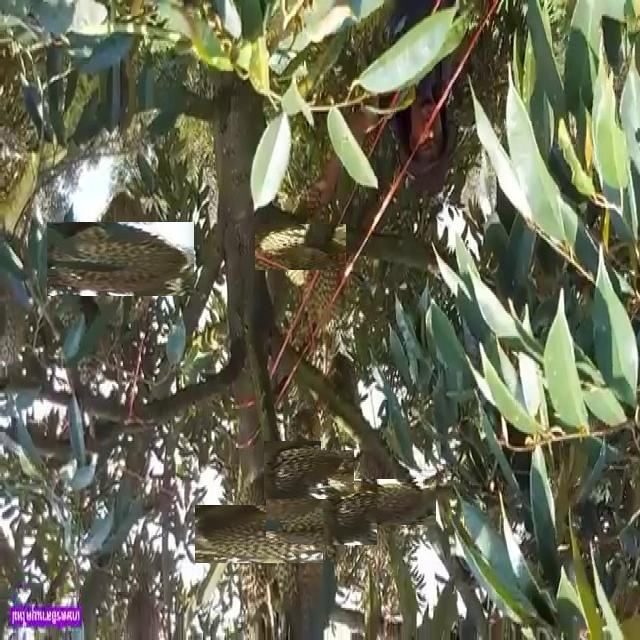durian: (65, 204, 177, 314), (212, 487, 305, 581), (272, 513, 336, 638), (329, 458, 416, 545), (281, 478, 363, 560), (272, 432, 346, 507), (266, 212, 336, 281), (303, 237, 348, 340), (321, 344, 363, 449)
